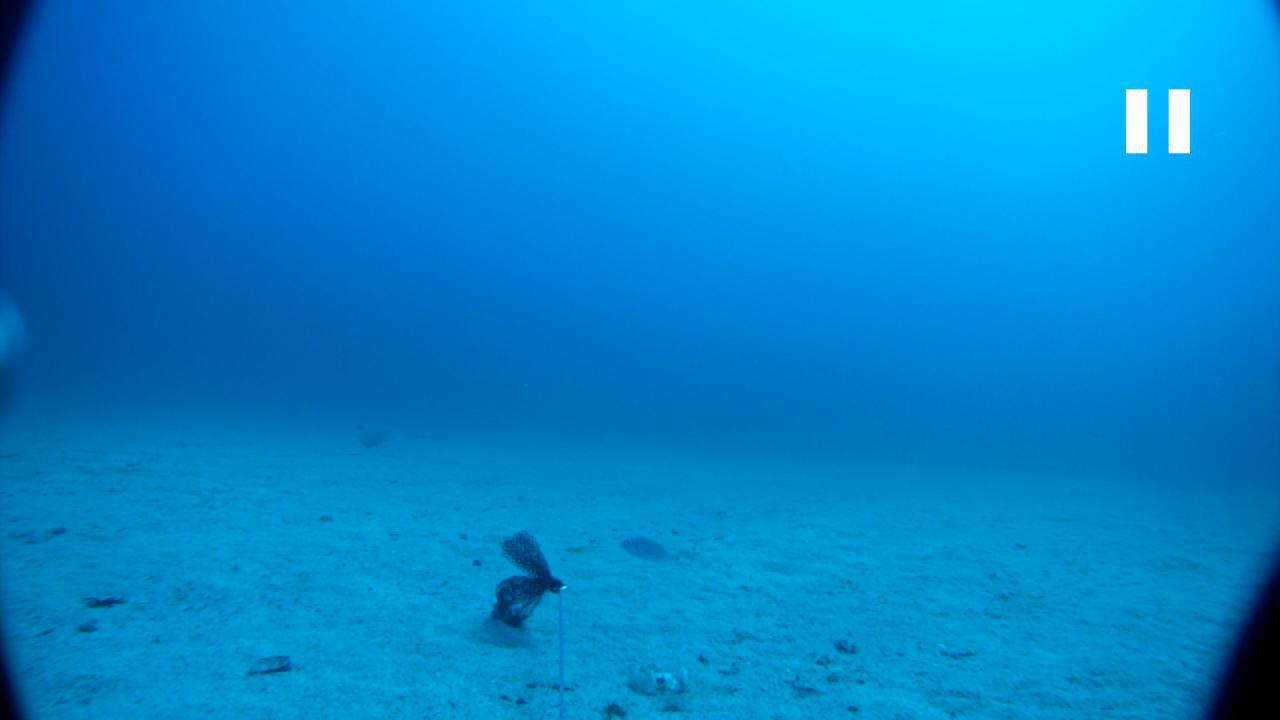dasyatis: (350, 418, 446, 448)
pagellus: (616, 532, 687, 569)
